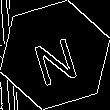N_N: (28, 25, 82, 85)
